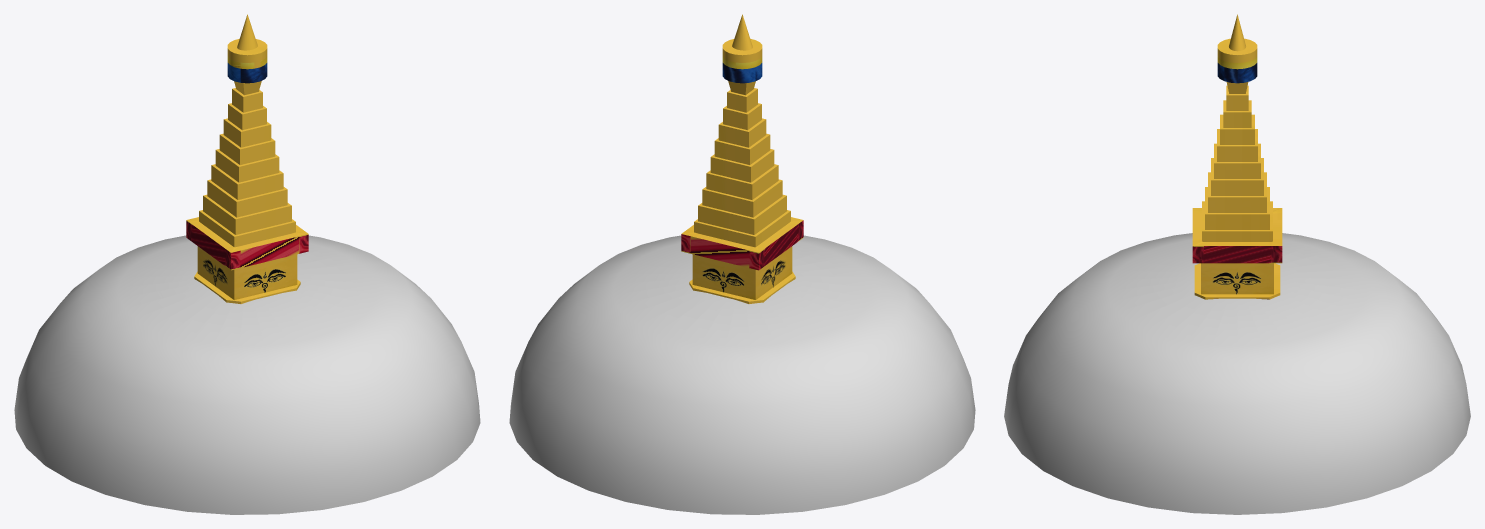
File: Stupa.fbx
The picture shows the model from 3 angles, left to right: view 1: azimuth 30°, elevation 25°; view 2: azimuth 150°, elevation 25°; view 3: azimuth 270°, elevation 25°; orthographic projection.
Visible parts, largest first — view 1: Sphere001, Box001; view 2: Sphere001, Box001; view 3: Sphere001, Box001.
Boxes of the visible parts, x1=… form: Sphere001: x1=14, y1=235, x2=480, y2=514; Box001: x1=186, y1=14, x2=308, y2=303; Sphere001: x1=509, y1=235, x2=975, y2=514; Box001: x1=681, y1=14, x2=803, y2=303; Sphere001: x1=1004, y1=233, x2=1470, y2=514; Box001: x1=1192, y1=14, x2=1282, y2=299.
Size of the model in its own units: 77.03 by 73.25 by 77.03.
1 material, 1 textured.
